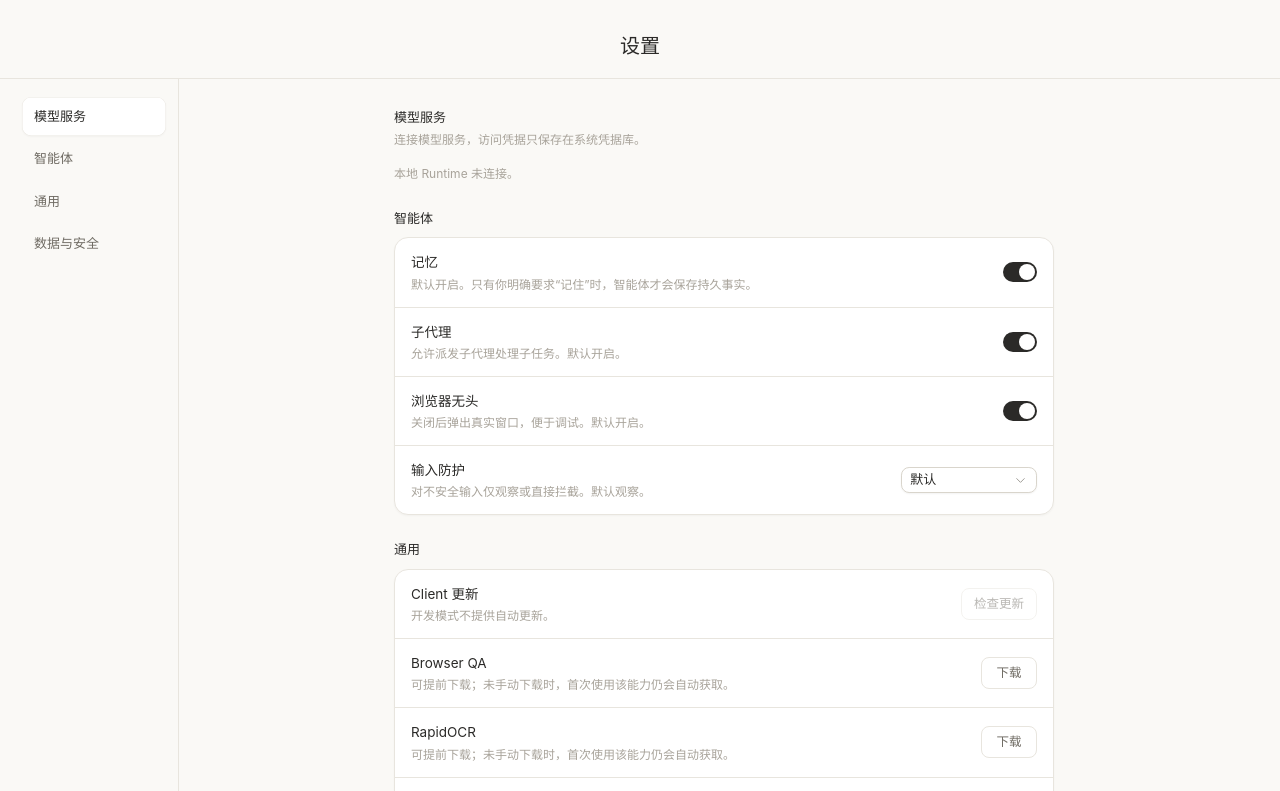
it: SettingsView › lets desktop users manually download Browser QA and RapidOCR assets
Click the button with aria-label "下载 Browser QA": (1009, 673) [981,657,1037,689]
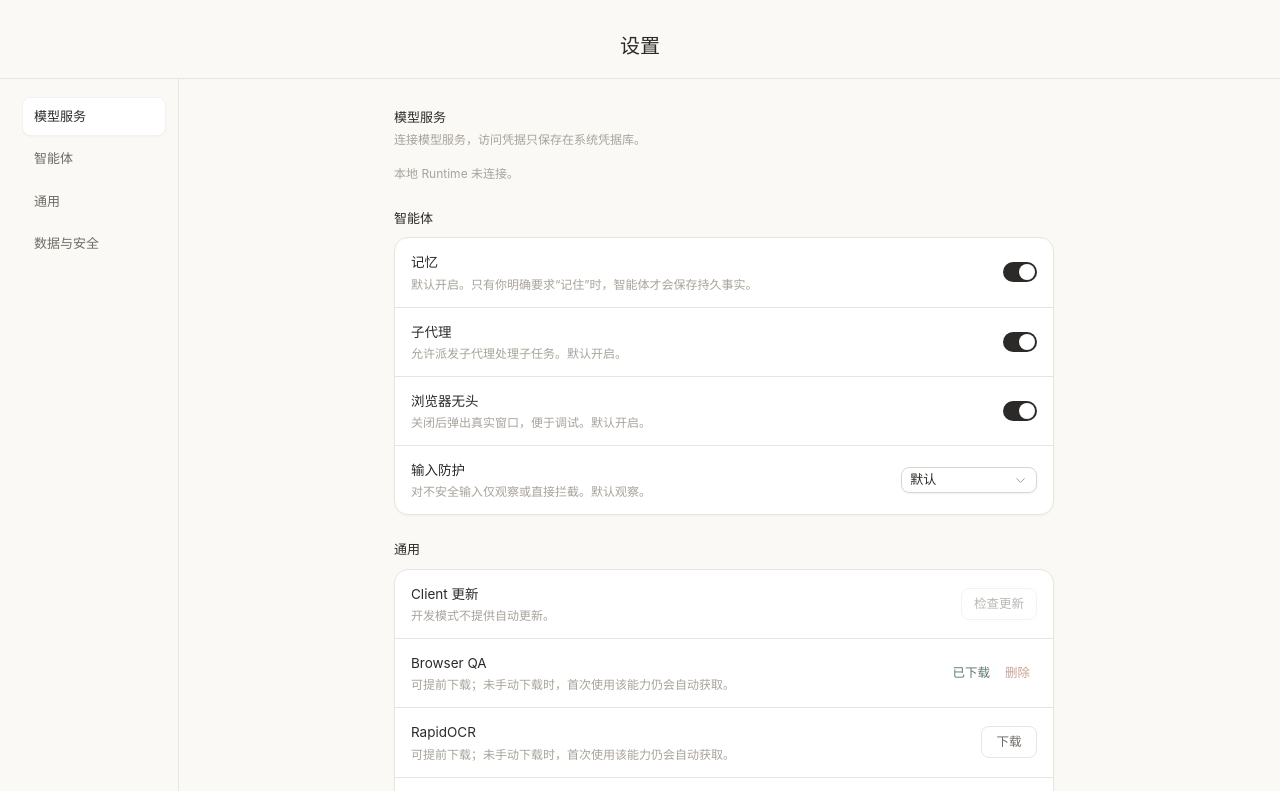
Expected: the button with aria-label "删除 Browser QA" is shown, [998,659,1037,687]
Click the button with aria-label "下载 RapidOCR": (1009, 742) [981,726,1037,758]
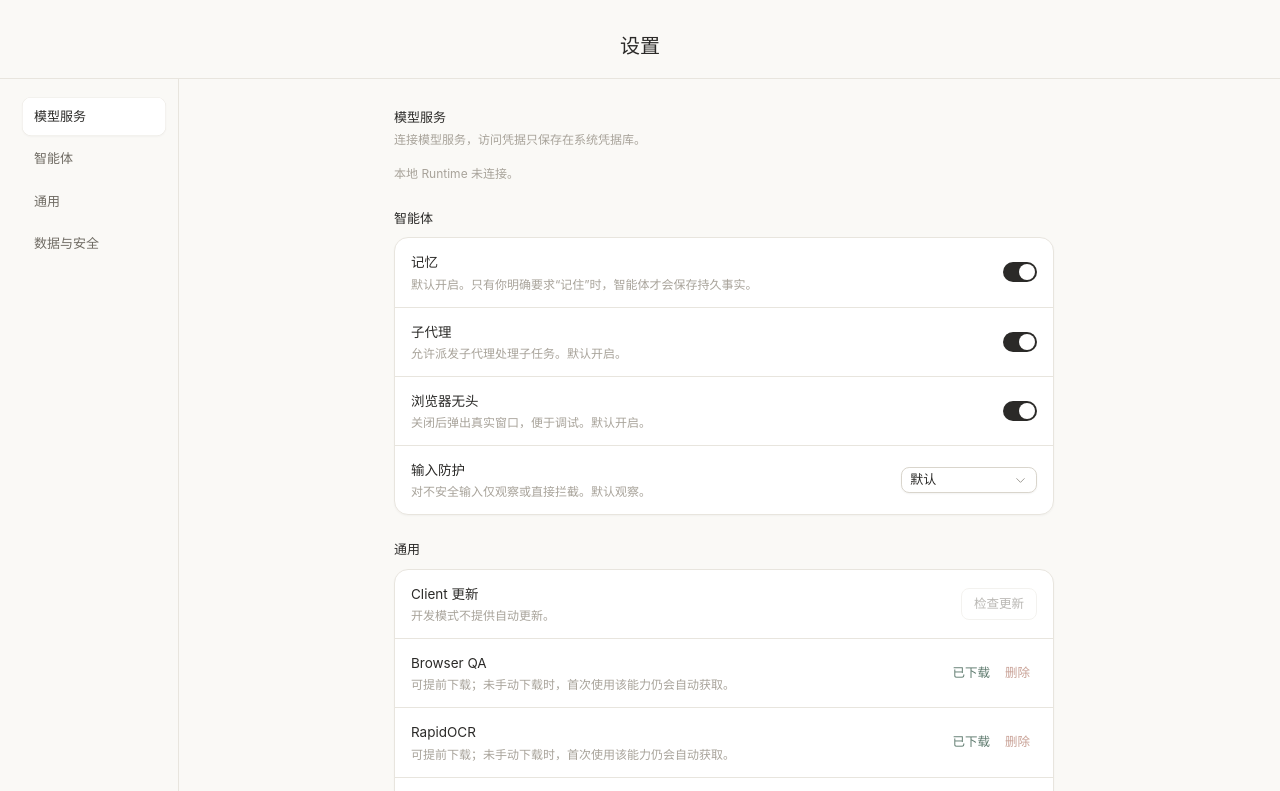
Expected: the button with aria-label "删除 RapidOCR" is shown, [998,728,1037,756]
